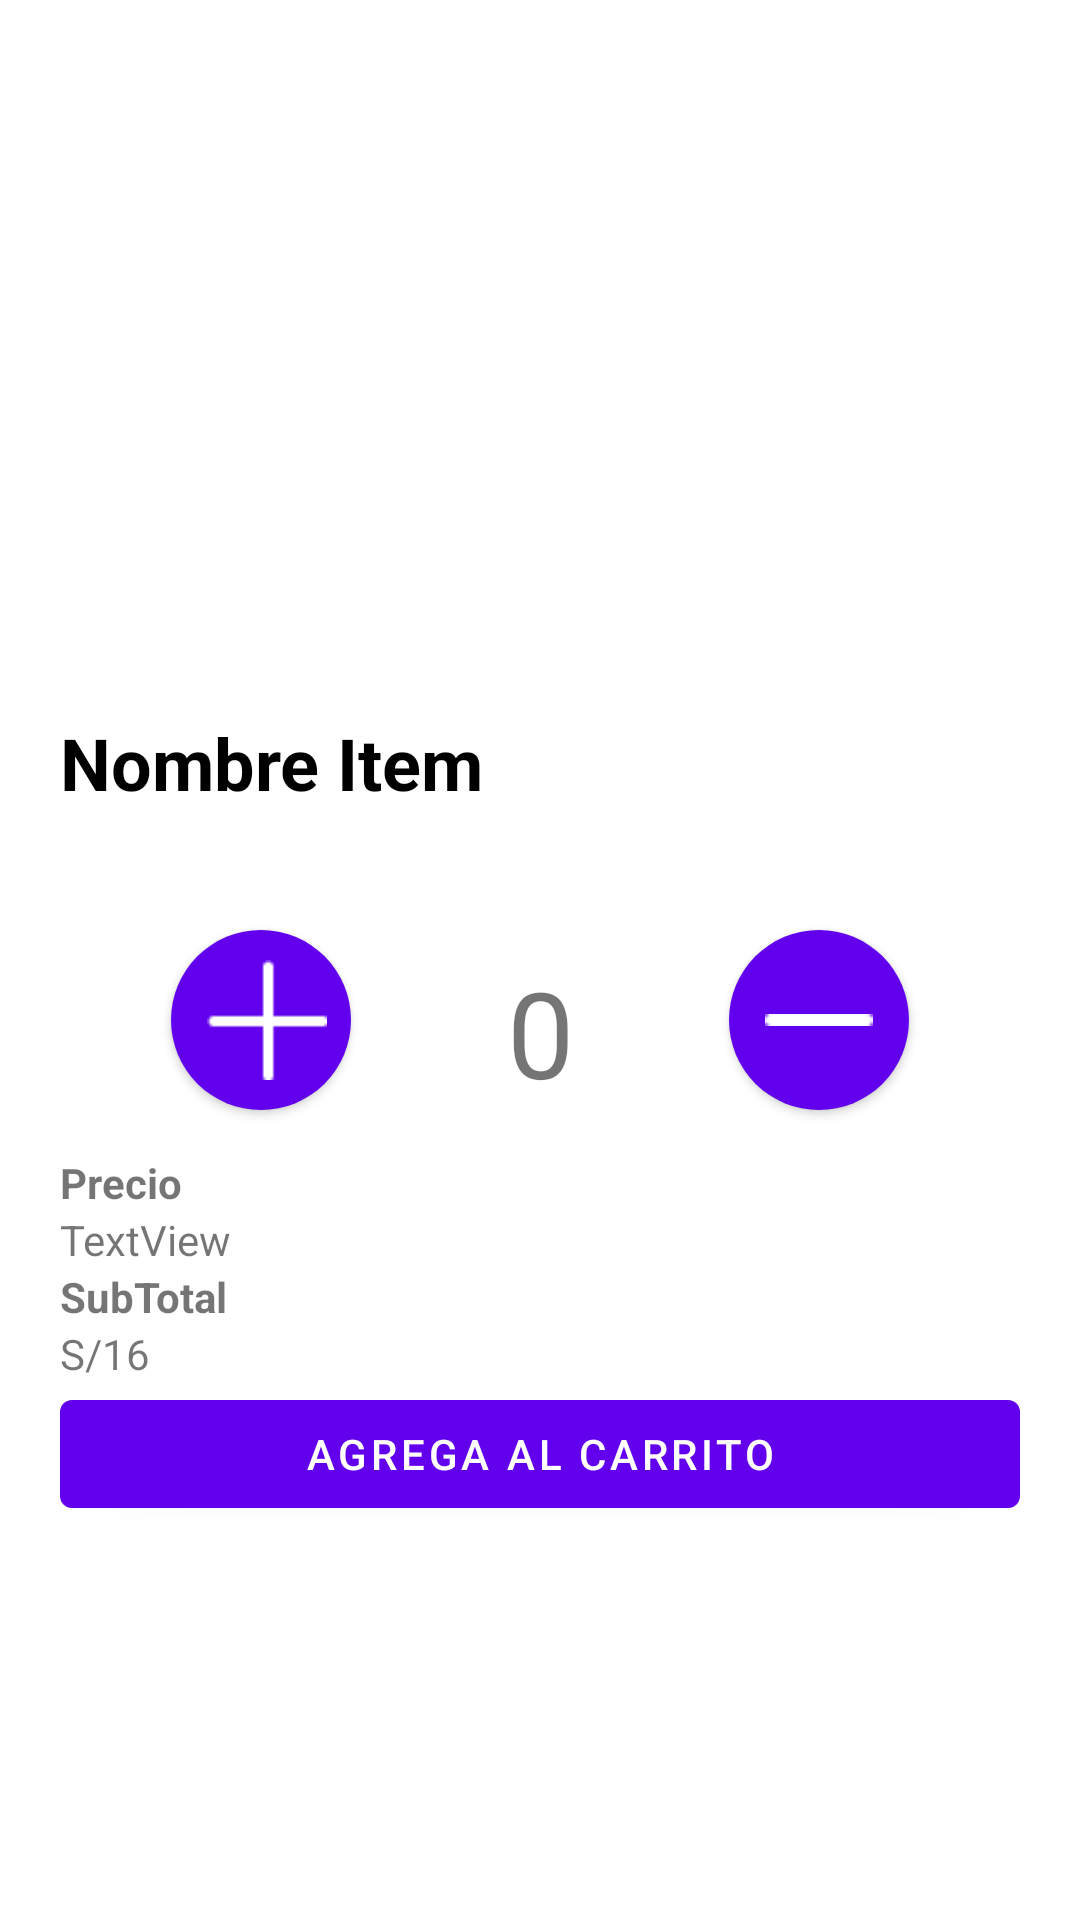

Where to tap for icons on this 1080x1920 app screen, as (x=x, y=y):
add: (x=261, y=1020)
sub: (x=819, y=1020)
